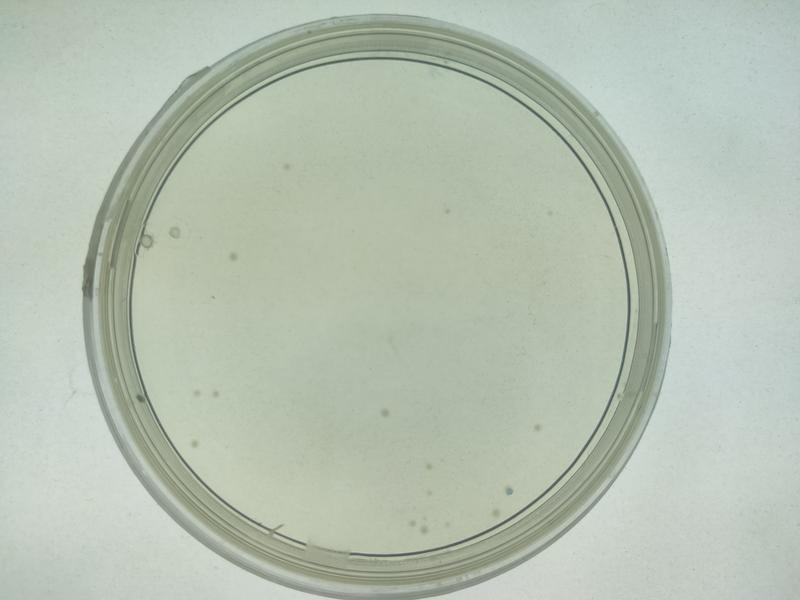colony: (220, 245, 246, 269), (522, 415, 551, 436), (372, 402, 394, 427), (275, 156, 299, 177), (183, 435, 209, 453), (497, 482, 523, 500)
